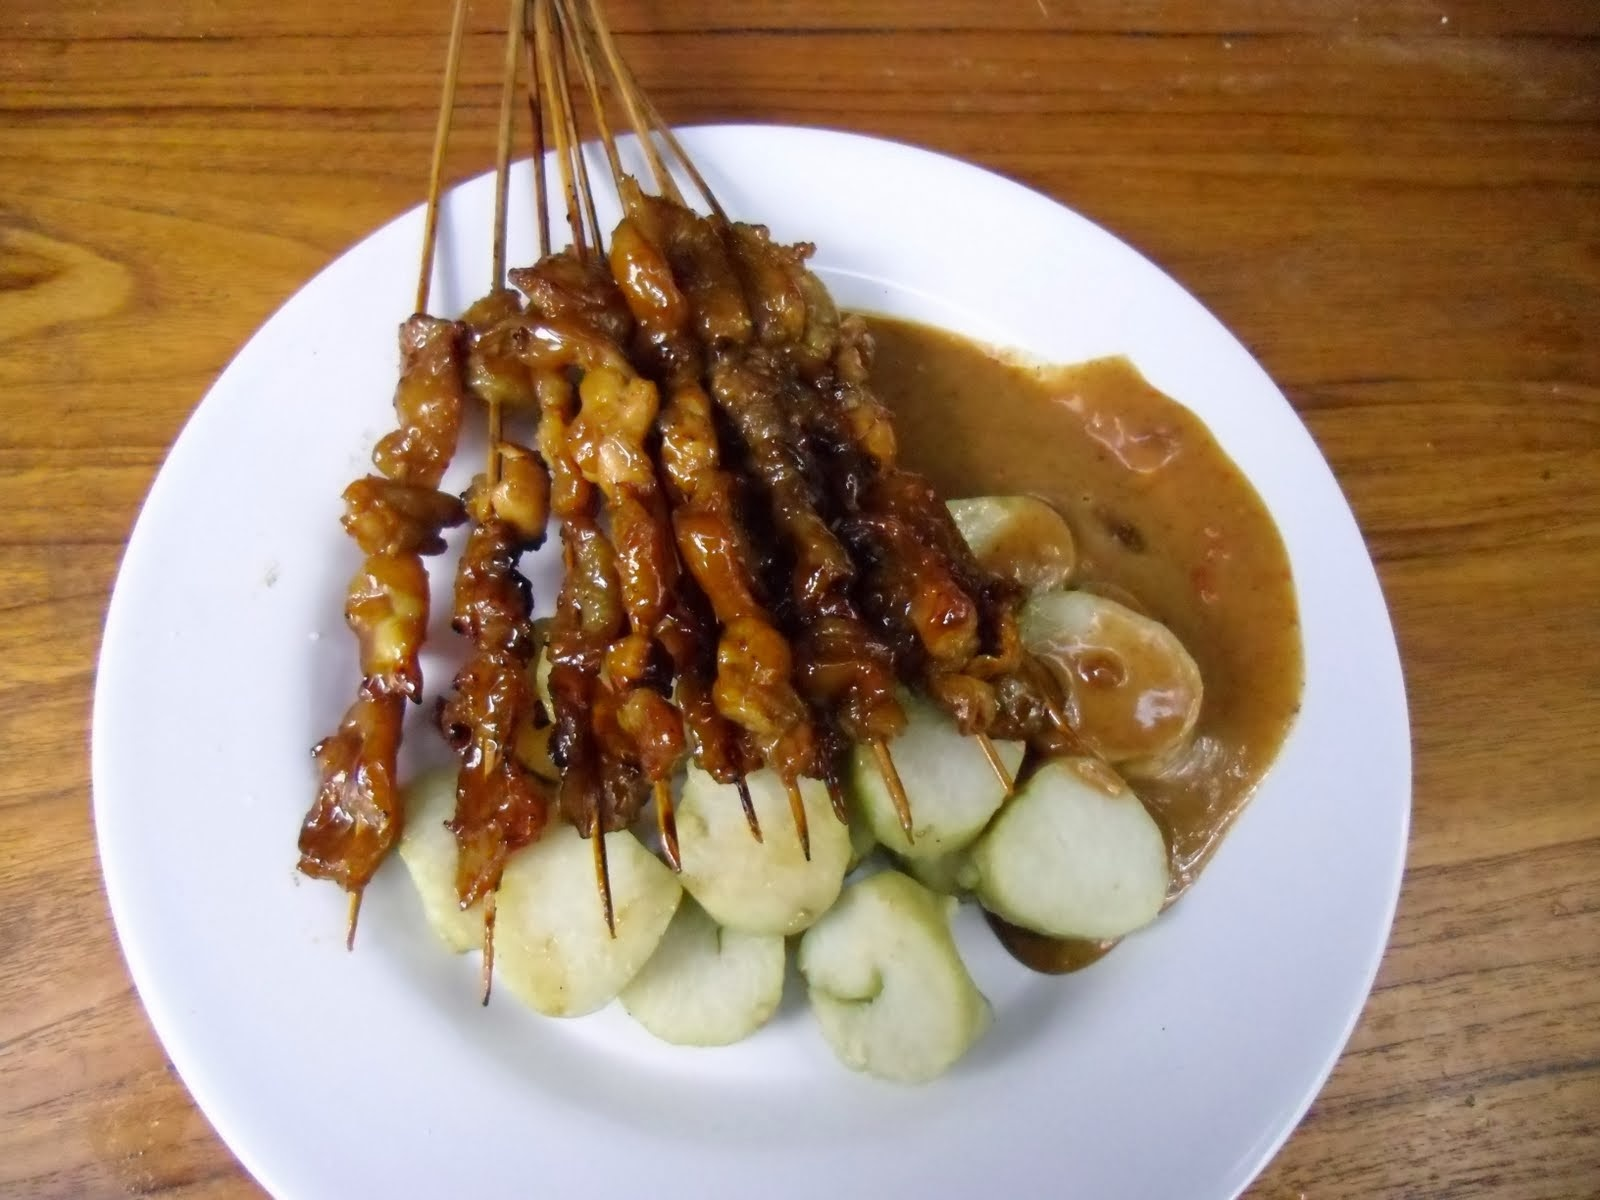sate: (294, 188, 1065, 1000)
